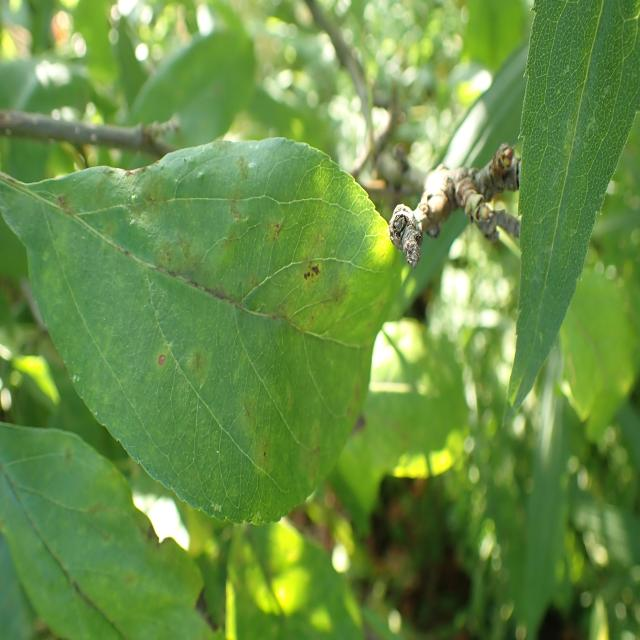scab: (33, 104, 379, 500)
